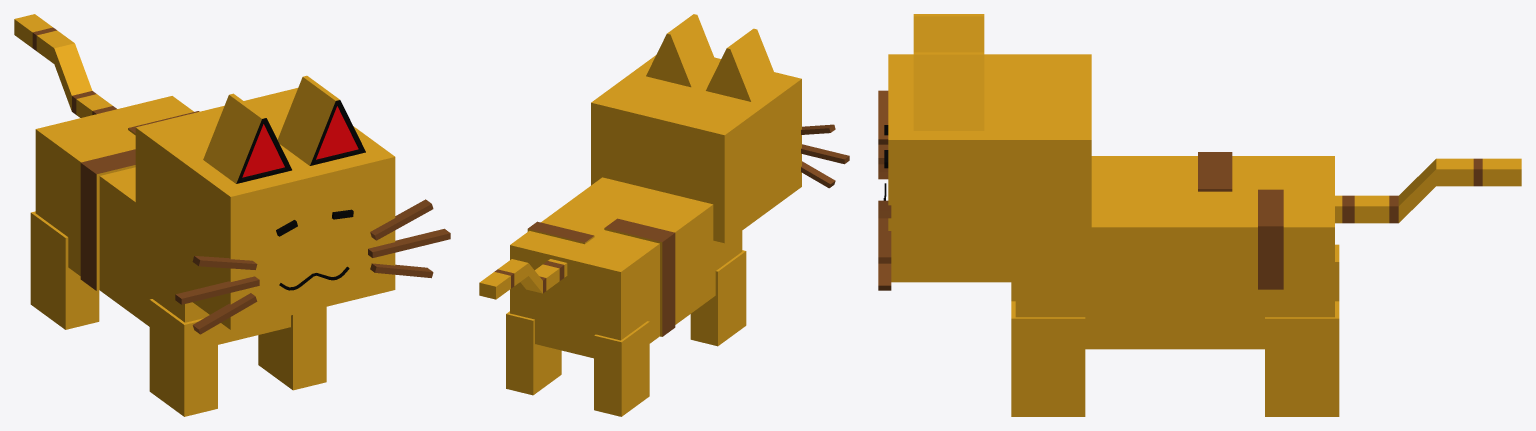
Rendered from Cat.fbx.
3 renders of one model, left to right at view 1: azimuth 30°, elevation 25°; view 2: azimuth 150°, elevation 25°; view 3: azimuth 270°, elevation 25°, orthographic. The views are drawn at different scales.
Visible parts, largest first — view 1: Cube, Cube.012, Cube.013, Cube.016, Cube.001, Cube.002, Cube.014, Cube.017, Cube.004, Cube.009, Cube.006, Cube.008 (+2 smaller); view 2: Cube.012, Cube, Cube.016, Cube.013, Cube.015, Cube.001, Cube.002, Cube.017, Cube.004, Cube.006; view 3: Cube.012, Cube, Cube.014, Cube.015, Cube.002, Cube.017, Cube.001, Cube.009.
Part boxes in pixels (x1=…): Cube: x1=135, y1=88, x2=395, y2=329; Cube.012: x1=35, y1=96, x2=290, y2=344; Cube.013: x1=149, y1=299, x2=217, y2=416; Cube.016: x1=30, y1=211, x2=99, y2=329; Cube.001: x1=203, y1=93, x2=291, y2=183; Cube.002: x1=277, y1=75, x2=365, y2=165; Cube.014: x1=258, y1=306, x2=326, y2=390; Cube.017: x1=14, y1=14, x2=116, y2=117; Cube.004: x1=175, y1=276, x2=259, y2=304; Cube.009: x1=368, y1=228, x2=450, y2=257; Cube.006: x1=192, y1=293, x2=257, y2=334; Cube.008: x1=370, y1=199, x2=433, y2=240; Cube.012: x1=510, y1=177, x2=742, y2=358; Cube: x1=591, y1=55, x2=801, y2=243; Cube.016: x1=594, y1=321, x2=649, y2=416; Cube.013: x1=690, y1=250, x2=746, y2=346; Cube.015: x1=506, y1=311, x2=561, y2=395; Cube.001: x1=706, y1=28, x2=777, y2=101; Cube.002: x1=646, y1=14, x2=717, y2=87; Cube.017: x1=479, y1=259, x2=567, y2=299; Cube.004: x1=801, y1=144, x2=849, y2=164; Cube.006: x1=801, y1=161, x2=835, y2=188; Cube.012: x1=1015, y1=152, x2=1334, y2=349; Cube: x1=888, y1=54, x2=1091, y2=282; Cube.014: x1=1011, y1=301, x2=1085, y2=416; Cube.015: x1=1265, y1=301, x2=1339, y2=416; Cube.002: x1=913, y1=52, x2=984, y2=130; Cube.017: x1=1335, y1=158, x2=1521, y2=223; Cube.001: x1=913, y1=14, x2=984, y2=52; Cube.009: x1=878, y1=218, x2=891, y2=263.
Size of the model in its own units: 403 by 208 by 239.
